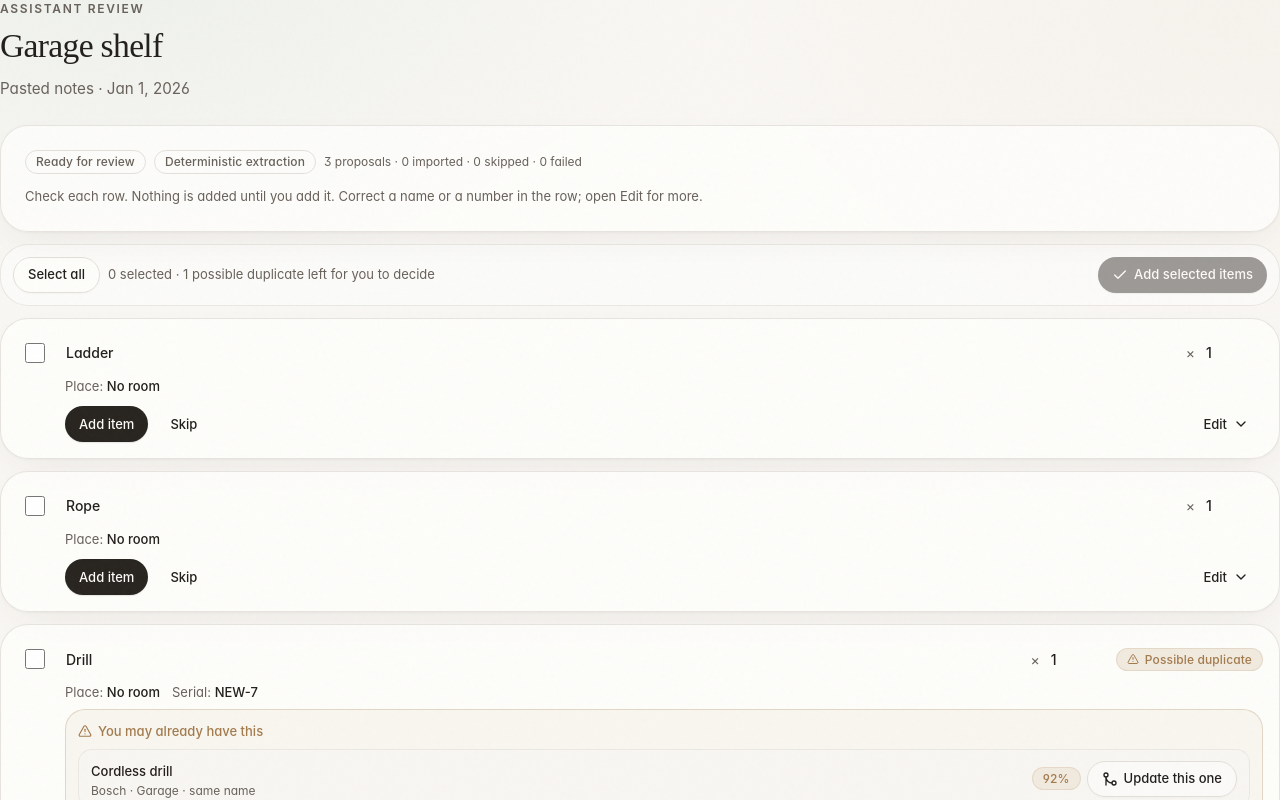
it: ImportDetailPage review › adds one row with its inline corrections, and an added row cannot be added again
The width and height of the screenshot is (1280, 800).
Expected: the element named "Ladder" is shown, x1=0 y1=318 x2=1279 y2=459
Replace the text in the field named "Name of Ladder" with "Step ladder" at point(618, 353), box x1=59 y1=335 x2=1178 y2=371
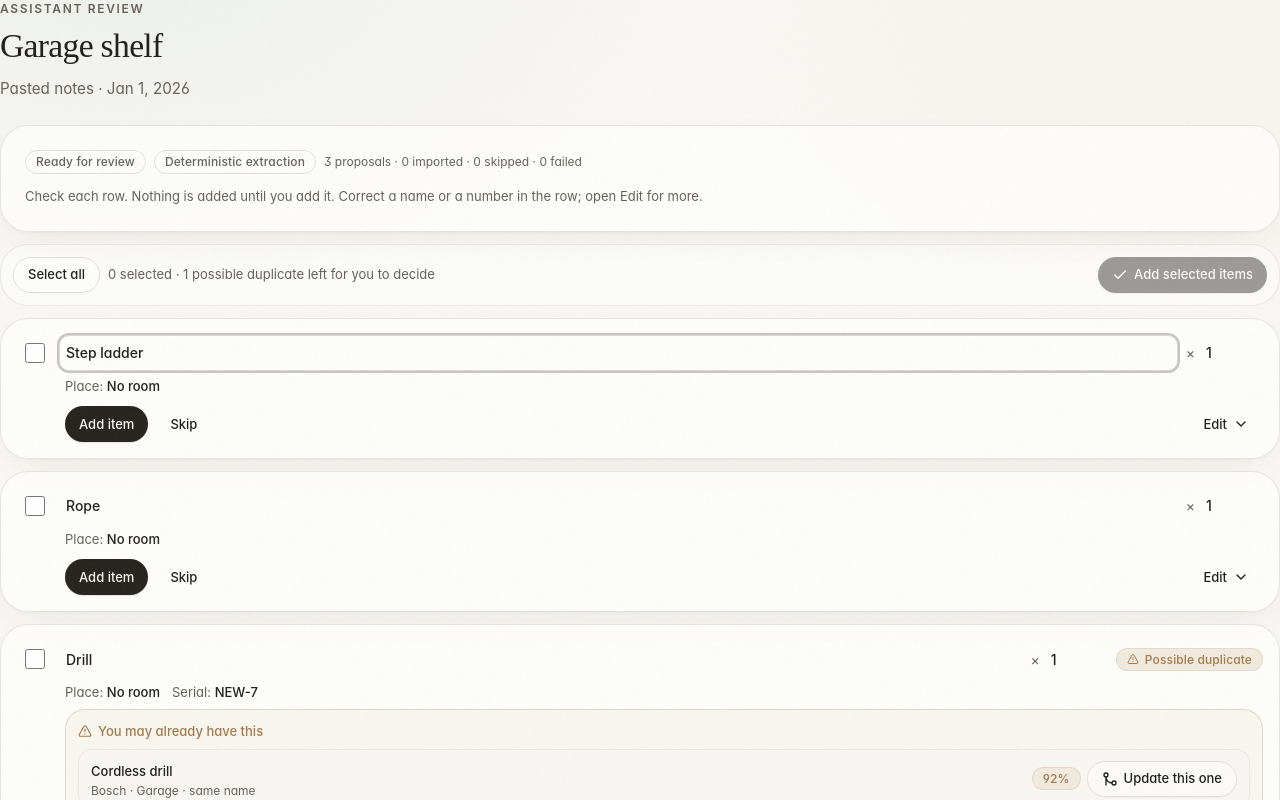
Click the 1st button "Add item" at point(107, 424), box x1=65 y1=406 x2=148 y2=442
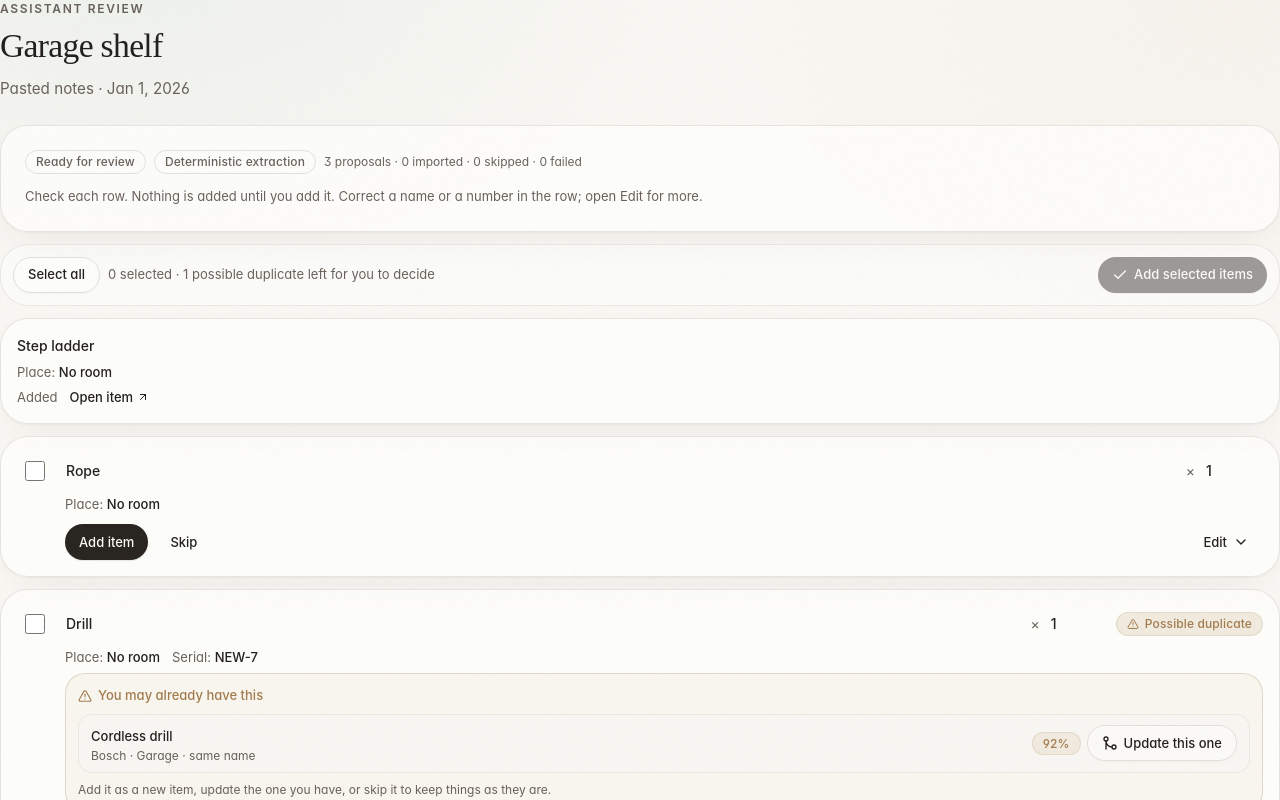
Expected: the text "Added" is shown, x1=17 y1=388 x2=57 y2=407
